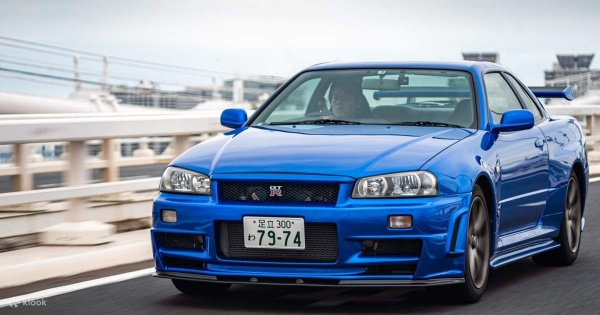licence: (242, 214, 308, 249)
